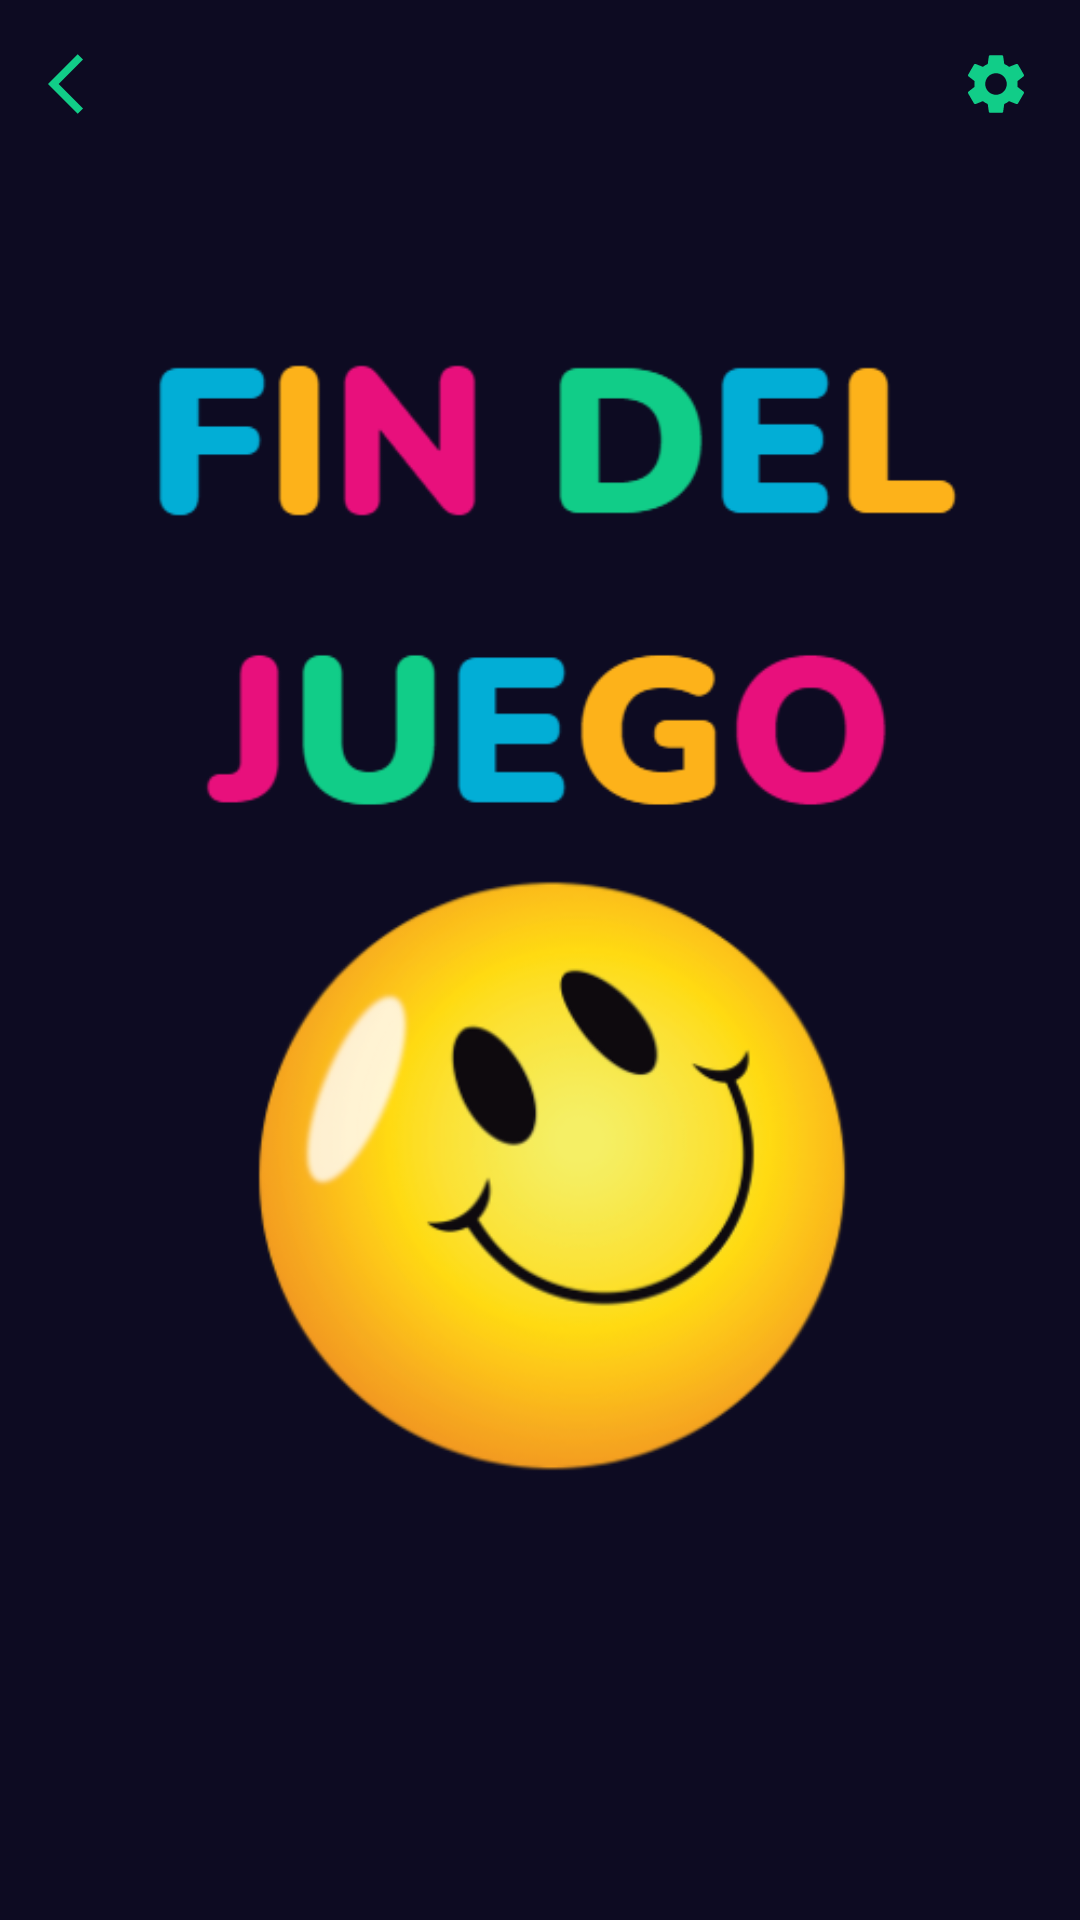

Screen size 1080w x 1920h. Icon name, then its center in pixels as (x,y):
arrow back: (65,84)
settings: (996,84)
